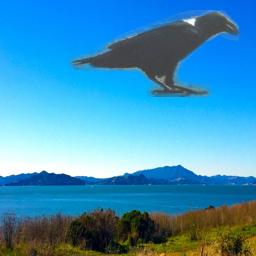Crow: (69, 10, 239, 97)
